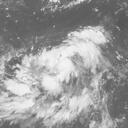cyclone: (15, 26, 106, 107)
